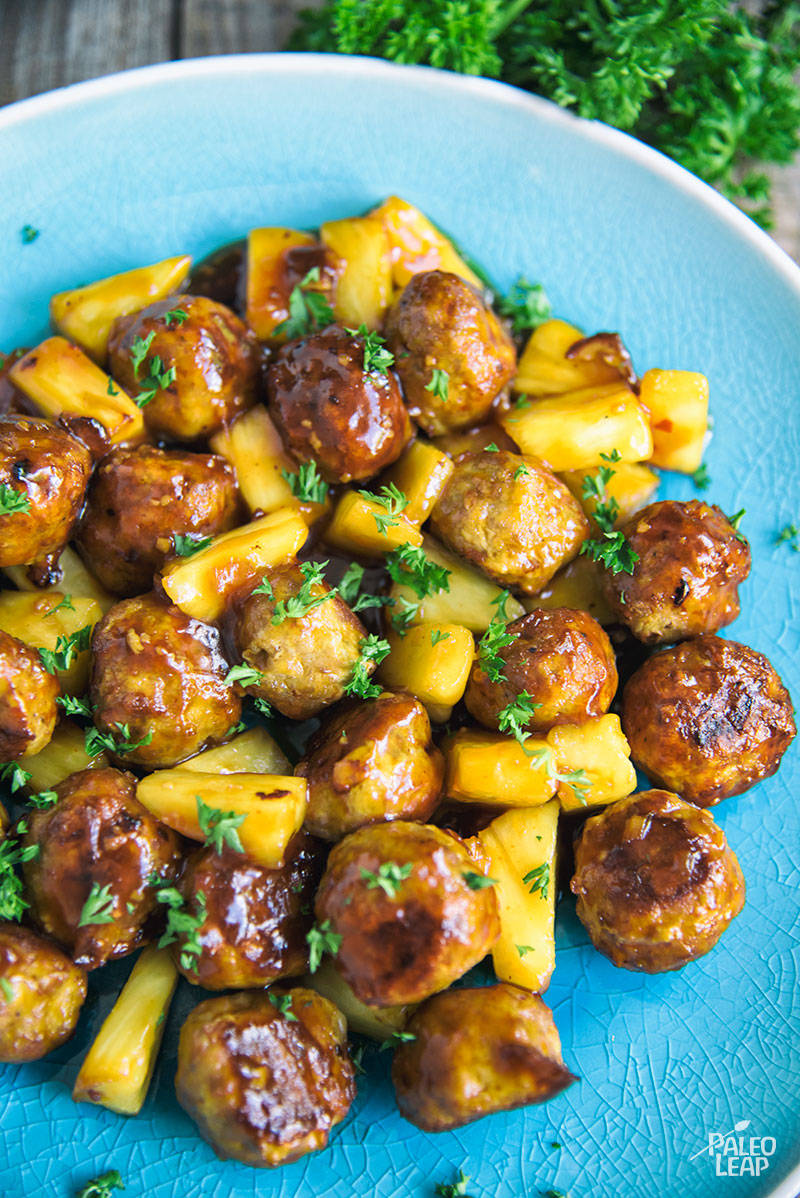meatballs: (315, 822, 503, 996), (566, 795, 745, 961), (17, 786, 193, 951), (613, 641, 782, 794), (192, 1003, 350, 1158), (369, 280, 530, 427), (389, 999, 573, 1126), (260, 332, 408, 488), (166, 858, 322, 996), (218, 577, 370, 712), (84, 612, 223, 755), (127, 300, 256, 436), (627, 505, 755, 641), (103, 445, 237, 566), (308, 708, 440, 826), (442, 458, 577, 572), (480, 615, 620, 718), (1, 418, 104, 555)
